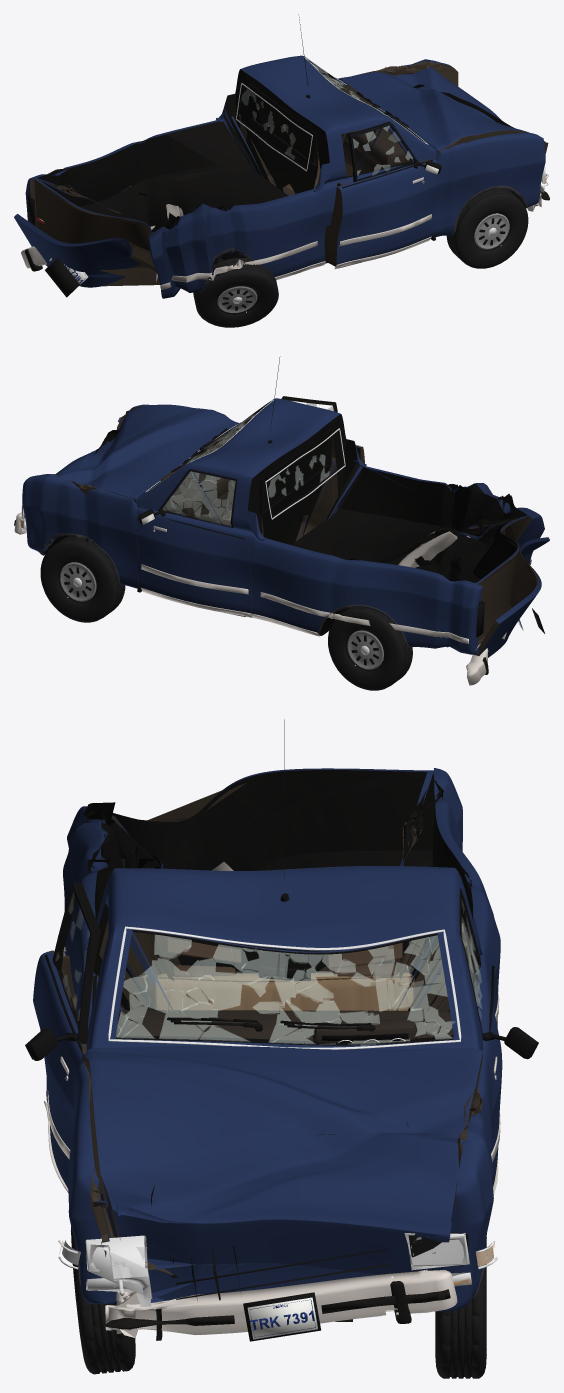
File: pickup87_rear_corner_R_d2_lod1.glb
3 views of the same model, one above another, from view 1: azimuth 30°, elevation 25°; view 2: azimuth 150°, elevation 25°; view 3: azimuth 270°, elevation 25° (orthographic). The views are drawn at different scales.
Visible parts, largest first — view 1: Body, Door_FR, Hood, Wheel_FR_mesh, Wheel_RR_mesh, Tailgate, Interior, Trim, Trim_FR, Glass, Ends, Bumper_R (+1 smaller); view 2: Body, Door_FL, Hood, Wheel_FL_mesh, Wheel_RL_mesh, Interior, Tailgate, Trim, Glass_FL, Trim_FL, Glass, Bumper_R (+1 smaller); view 3: Body, Hood, Glass, Interior, Bumper_F, Ends, Door_FR, Wheel_FL_mesh, Wheel_FR_mesh, Door_FL, Trim_FR, Trim_FL (+2 smaller).
Boxes of the visible parts, x1,y1,x2,y2 form: Body: (25,55,548,298); Door_FR: (324,121,437,266); Hood: (338,67,529,155); Wheel_FR_mesh: (446,188,528,268); Wheel_RR_mesh: (193,258,278,327); Tailgate: (14,214,159,287); Interior: (286,85,408,191); Trim: (160,14,527,292); Trim_FR: (334,123,441,269); Glass: (236,57,428,171); Ends: (27,167,548,297); Bumper_R: (21,204,183,271); Body: (22,398,544,654); Door_FL: (136,468,252,613); Hood: (55,404,238,537); Wheel_FL_mesh: (40,536,125,622); Wheel_RL_mesh: (328,607,412,690); Interior: (160,432,237,525); Tailgate: (474,537,549,657); Trim: (40,356,531,646); Glass_FL: (162,469,236,527); Trim_FL: (138,469,252,617); Glass: (145,399,345,519); Bumper_R: (398,531,488,685); Body: (63,768,500,1311); Hood: (83,1046,482,1278); Glass: (108,926,461,1049); Interior: (116,937,452,1043); Bumper_F: (104,1269,457,1340); Ends: (58,858,497,1341); Door_FR: (33,883,102,1194); Wheel_FL_mesh: (435,1234,486,1378); Wheel_FR_mesh: (71,1205,135,1374); Door_FL: (459,887,502,1186); Trim_FR: (25,885,91,1192); Trim_FL: (448,888,538,1195).
Size of the model in its own units: 4.97 by 2.6 by 2.36.
34 materials, 5 textured.
